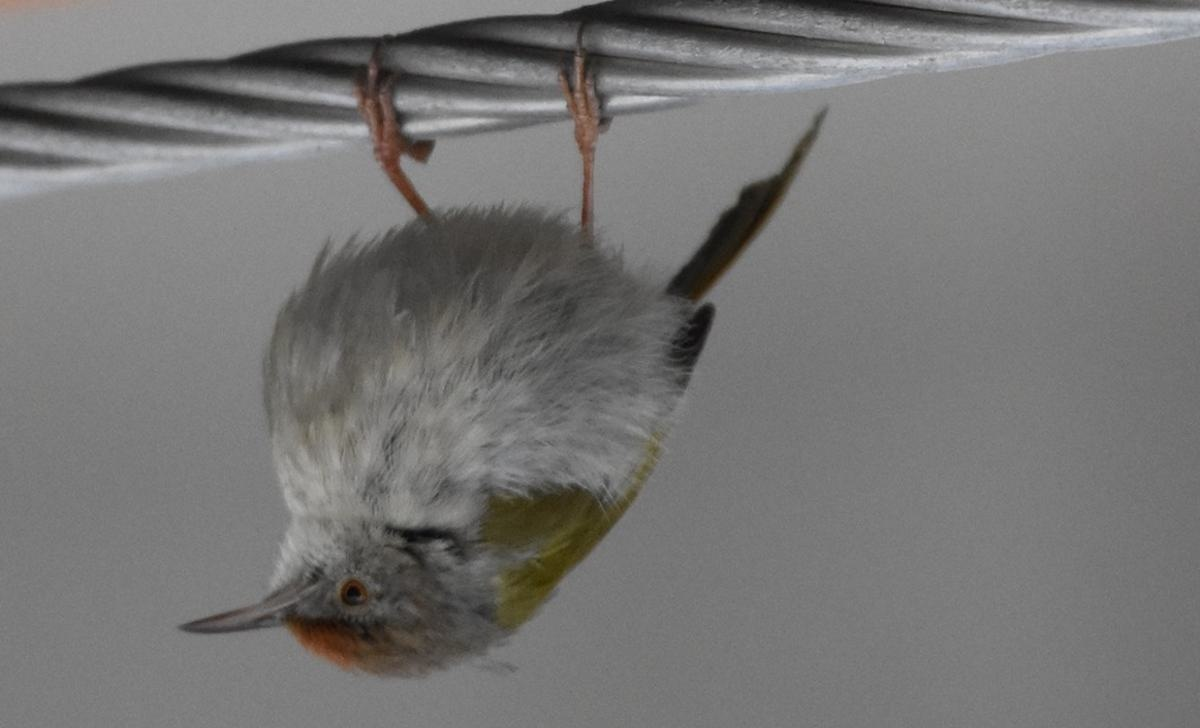tailorbird: (157, 45, 787, 696)
